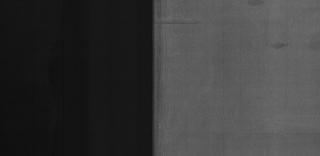oil spot: (262, 40, 292, 52), (244, 1, 266, 12)
